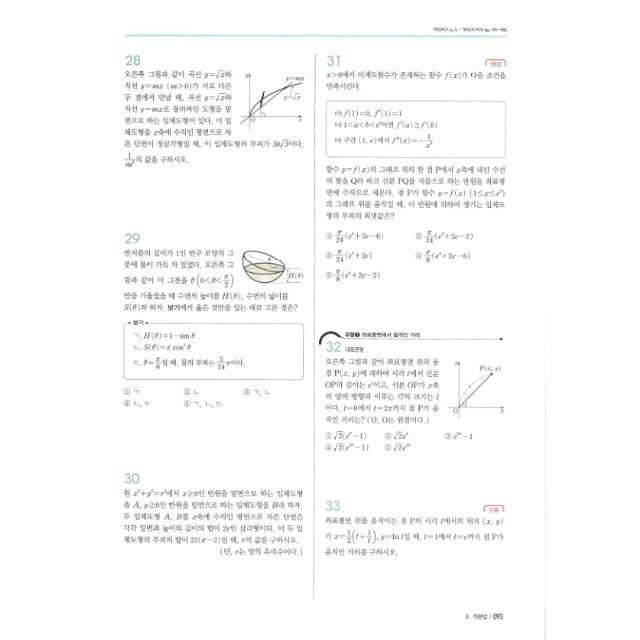multiple: (320, 47, 514, 290), (118, 226, 308, 414), (316, 324, 510, 460)
short: (119, 49, 309, 178), (115, 462, 308, 566), (318, 490, 510, 566)
